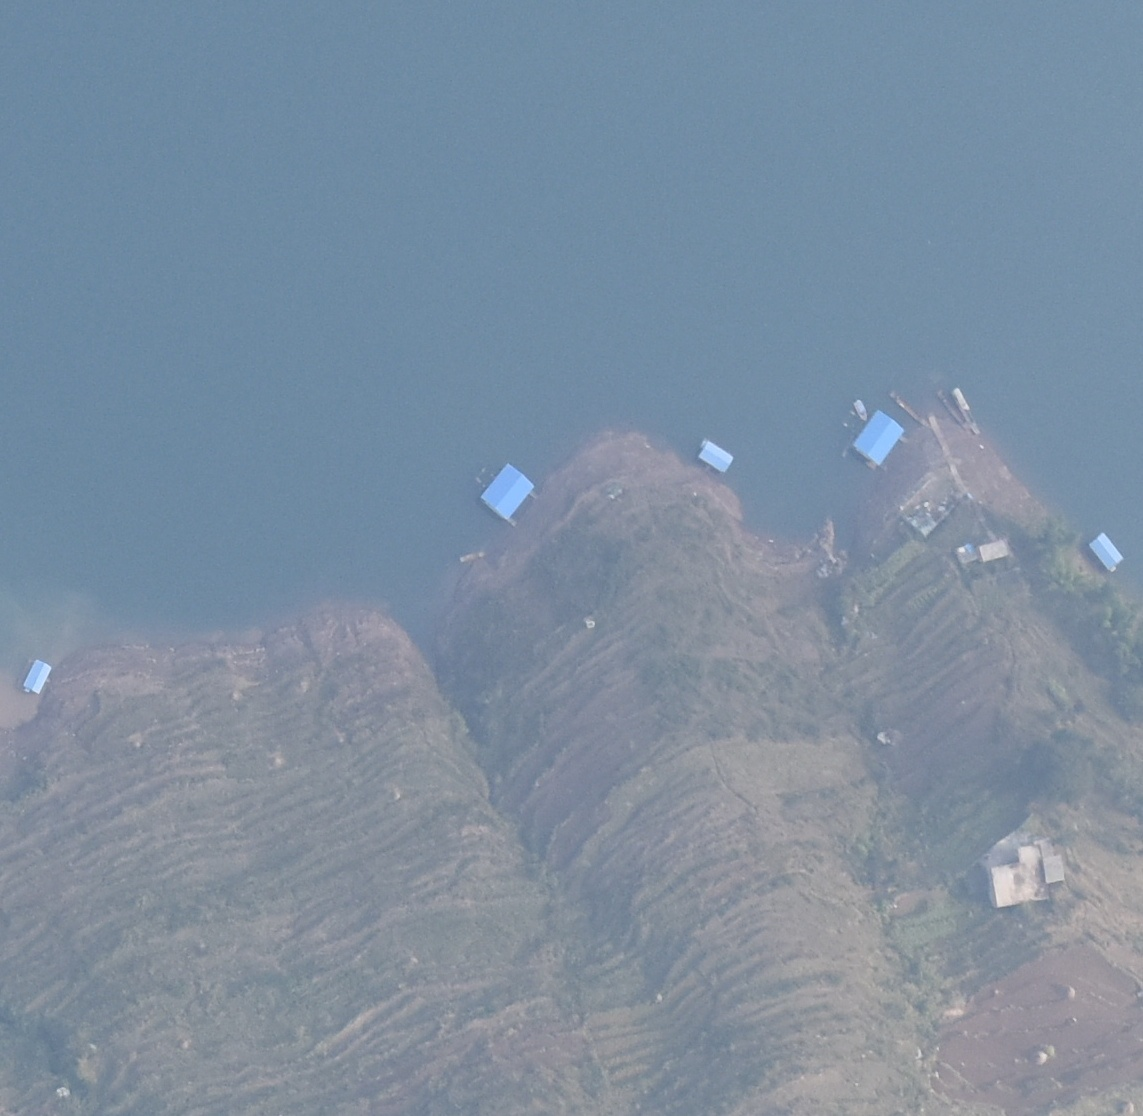building: (986, 839, 1064, 906), (978, 539, 1011, 561)
prefabricated-house: (476, 462, 537, 523), (850, 408, 905, 469), (1087, 532, 1124, 573), (696, 439, 736, 475), (24, 658, 50, 695)
ship: (889, 391, 930, 429), (952, 388, 980, 435), (936, 389, 969, 430), (853, 399, 868, 422)
